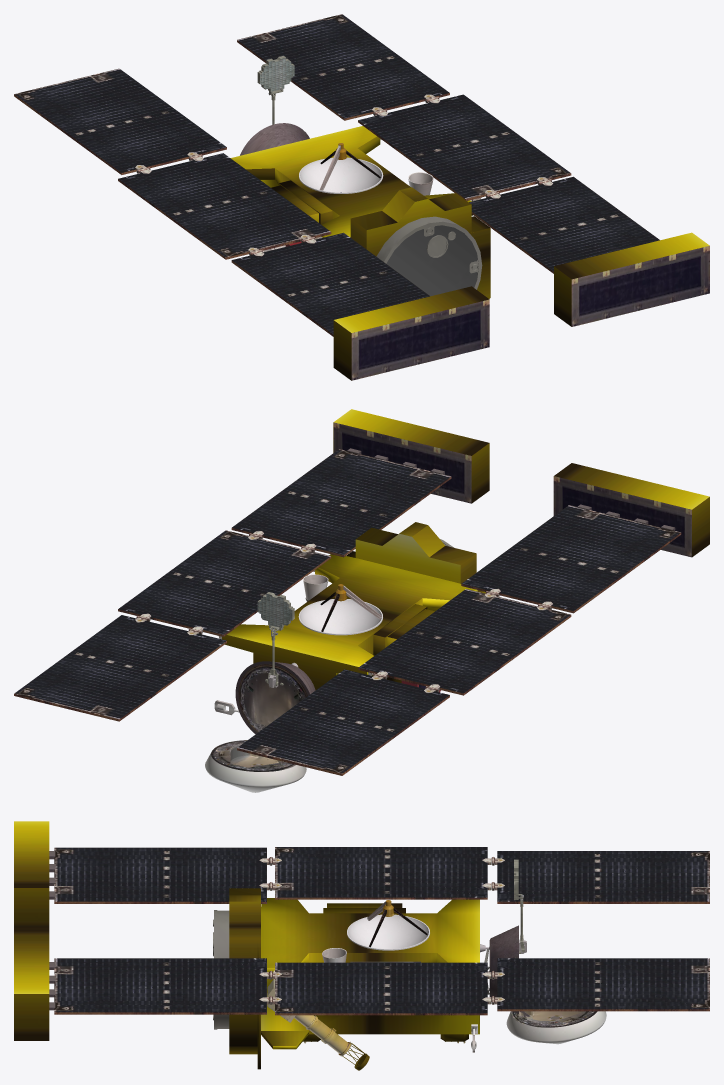
File: stardust.glb
3 renders of one model, top to bottom at view 1: azimuth 30°, elevation 25°; view 2: azimuth 150°, elevation 25°; view 3: azimuth 270°, elevation 25°, orthographic.
Parts seen in each view (by area): view 1: shiny_panels, Stardust_tex_01, gold_foil2, gold_foil, foil_silver, Stardust_tex_03, Stardust_tex_02, Stardust_tex_01_c, Stardust_tex_02_c2; view 2: shiny_panels, Stardust_tex_01, gold_foil, gold_foil2, Stardust_tex_03_c, Stardust_tex_03, Stardust_tex_01_c2, Stardust_tex_03_c2, Stardust_tex_02_c2, Stardust_tex_01_c; view 3: shiny_panels, gold_foil, gold_foil2, Stardust_tex_01, Stardust_tex_03, Stardust_tex_02, Stardust_tex_01_c2, Stardust_tex_01_c, Stardust_tex_03_c2, Stardust_tex_02_c2.
Boxes of the visible parts, left/top/right/bottom form: shiny_panels: left=14, top=14, right=659, bottom=334; Stardust_tex_01: left=14, top=40, right=709, bottom=380; gold_foil2: left=271, top=180, right=709, bottom=380; gold_foil: left=230, top=126, right=490, bottom=298; foil_silver: left=386, top=225, right=477, bottom=296; Stardust_tex_03: left=299, top=143, right=383, bottom=193; Stardust_tex_02: left=285, top=216, right=482, bottom=289; Stardust_tex_01_c: left=240, top=123, right=309, bottom=155; Stardust_tex_02_c2: left=257, top=56, right=294, bottom=124; shiny_panels: left=14, top=449, right=680, bottom=773; Stardust_tex_01: left=14, top=422, right=691, bottom=775; gold_foil: left=222, top=533, right=477, bottom=690; gold_foil2: left=333, top=409, right=709, bottom=655; Stardust_tex_03_c: left=238, top=664, right=307, bottom=732; Stardust_tex_03: left=298, top=584, right=382, bottom=635; Stardust_tex_01_c2: left=205, top=753, right=306, bottom=792; Stardust_tex_03_c2: left=211, top=740, right=295, bottom=771; Stardust_tex_02_c2: left=257, top=592, right=294, bottom=687; Stardust_tex_01_c: left=235, top=661, right=315, bottom=734; shiny_panels: left=54, top=847, right=709, bottom=1013; gold_foil: left=261, top=898, right=479, bottom=1049; gold_foil2: left=14, top=821, right=468, bottom=1070; Stardust_tex_01: left=49, top=851, right=709, bottom=1066; Stardust_tex_03: left=347, top=900, right=429, bottom=950; Stardust_tex_02: left=213, top=910, right=489, bottom=1056; Stardust_tex_01_c2: left=506, top=1011, right=606, bottom=1044; Stardust_tex_01_c: left=489, top=925, right=518, bottom=1014; Stardust_tex_03_c2: left=511, top=1011, right=597, bottom=1027; Stardust_tex_02_c2: left=514, top=859, right=526, bottom=953.
Size of the model in its own units: 2.94 by 1.45 by 5.01.
7 materials, 7 textured.
